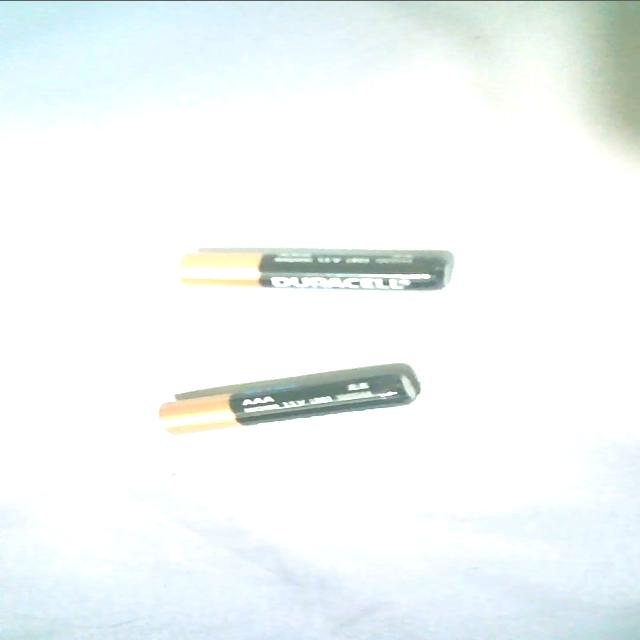AAA: (153, 364, 421, 438), (171, 240, 459, 294)
